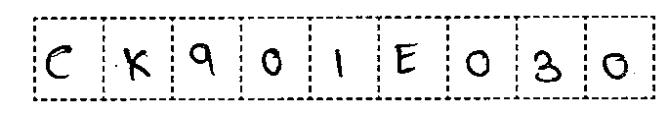0: (257, 43, 289, 82), (599, 48, 633, 83), (464, 45, 493, 82)
1: (326, 45, 352, 84)
3: (529, 47, 567, 86)
9: (186, 37, 222, 82)
C: (42, 40, 78, 82)
E: (391, 35, 426, 81)
K: (117, 38, 154, 88)
